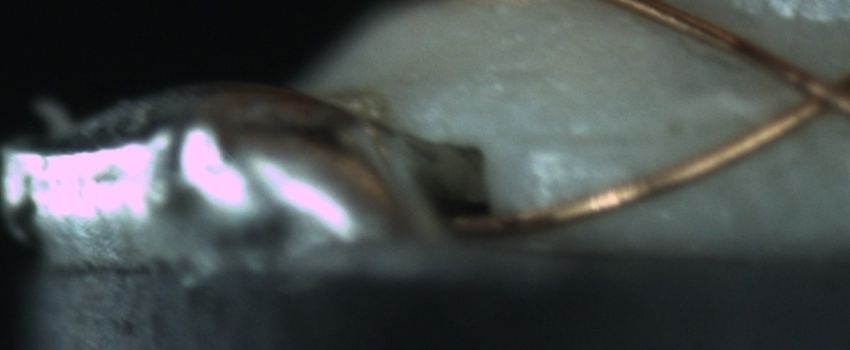CL: (766, 52, 849, 129)
DL: (525, 105, 671, 173)
